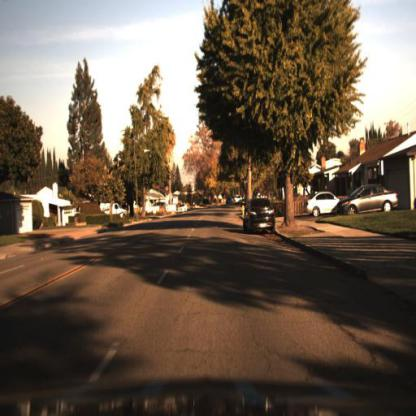car: (335, 179, 401, 218), (242, 193, 282, 244), (303, 190, 338, 221), (101, 201, 126, 217), (177, 203, 192, 215)
